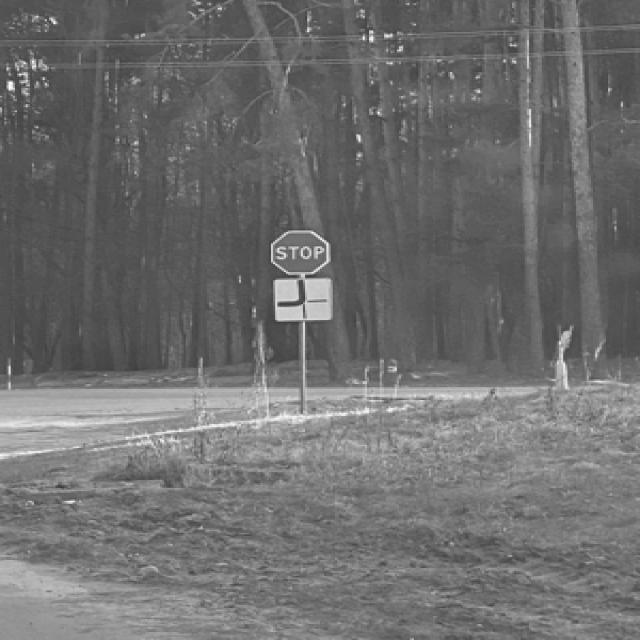Stop-signs: (272, 230, 330, 274)
